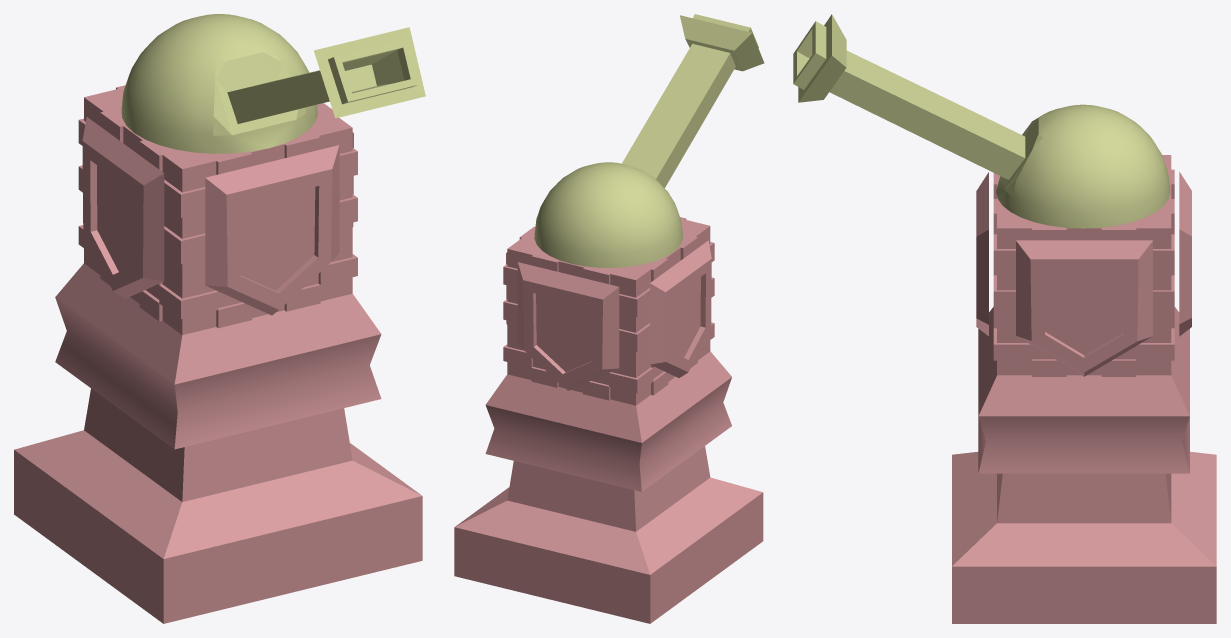
The model's file is Def_barrage.fbx.
3 views of the same model, side by side, from view 1: azimuth 30°, elevation 25°; view 2: azimuth 150°, elevation 25°; view 3: azimuth 270°, elevation 25° (orthographic). The views are drawn at different scales.
Visible parts, largest first — view 1: Box001, Object001; view 2: Box001, Object001; view 3: Box001, Object001.
Part boxes in pixels (box(x1,y1,x2,y2)): Box001: box(14, 85, 422, 623); Object001: box(121, 14, 425, 153); Box001: box(454, 217, 763, 623); Object001: box(534, 14, 764, 267); Box001: box(952, 155, 1216, 623); Object001: box(793, 14, 1170, 228).
Size of the model in its own units: 130 by 207 by 288.
